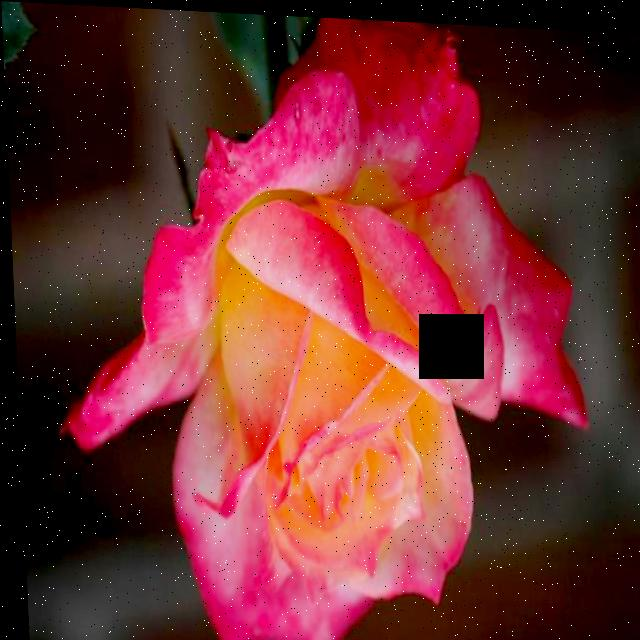rose: (4, 0, 627, 640)
